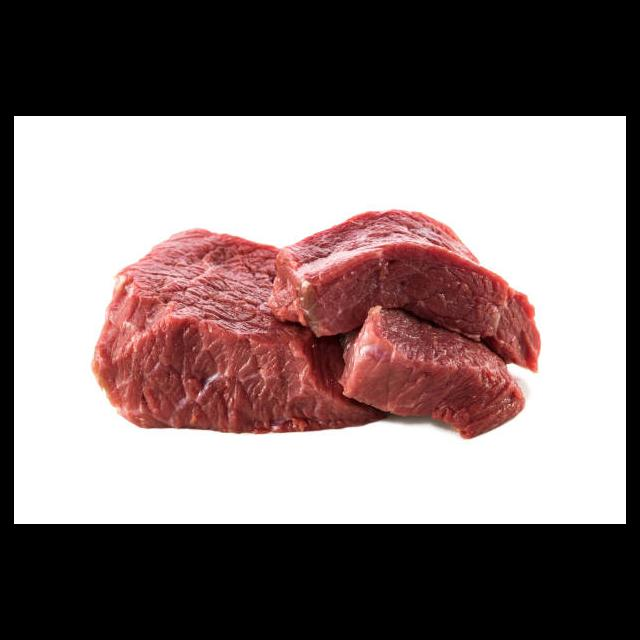beef: (90, 207, 543, 439)
